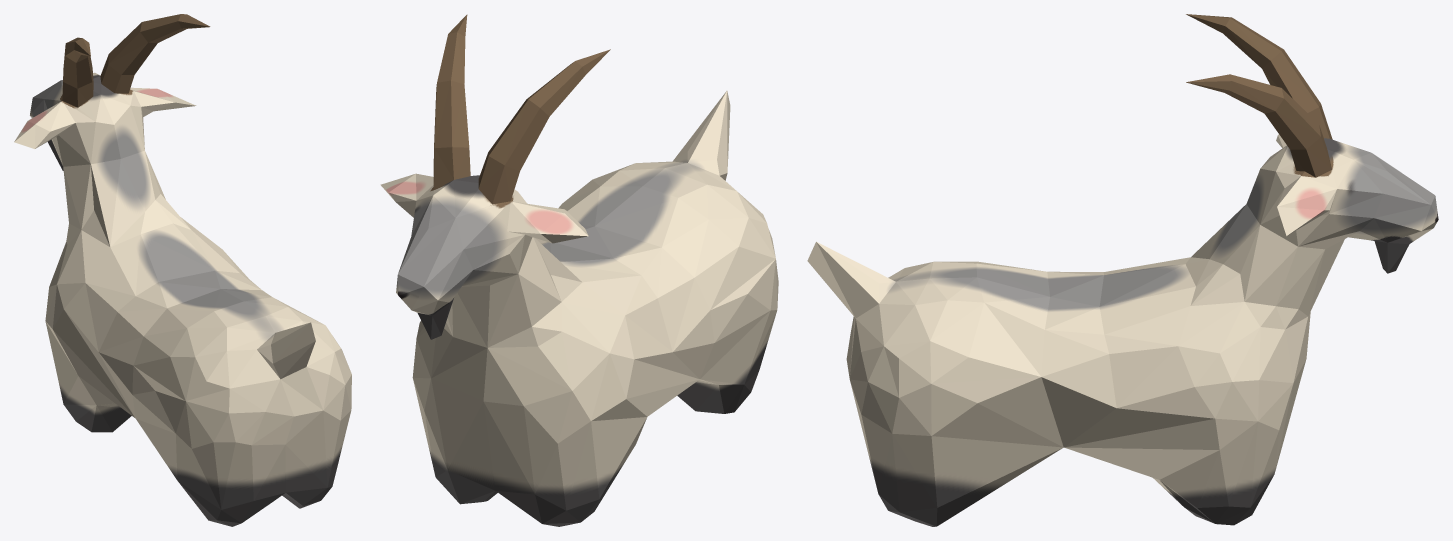
Rendered from animal_goat_buck_blob.obj.
3 views of the same model, side by side, from view 1: azimuth 30°, elevation 25°; view 2: azimuth 150°, elevation 25°; view 3: azimuth 270°, elevation 25° (orthographic). The views are drawn at different scales.
Parts seen in each view (by area): view 1: animal_goat_buck_blob; view 2: animal_goat_buck_blob; view 3: animal_goat_buck_blob.
Part boxes in pixels (left/top/right/bottom): animal_goat_buck_blob: left=14, top=14, right=351, bottom=526; animal_goat_buck_blob: left=380, top=14, right=778, bottom=526; animal_goat_buck_blob: left=807, top=14, right=1438, bottom=526.
Bounding box in the file's own units: 0.3723 × 0.7847 × 0.9793.
